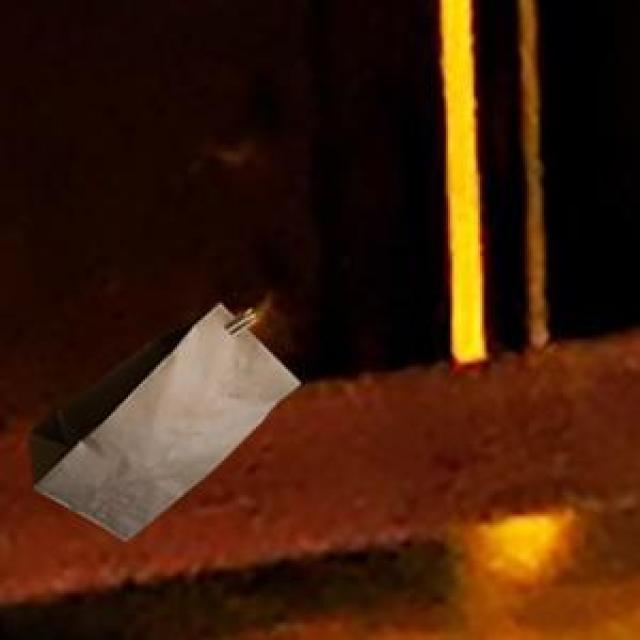paper: (26, 299, 297, 538)
